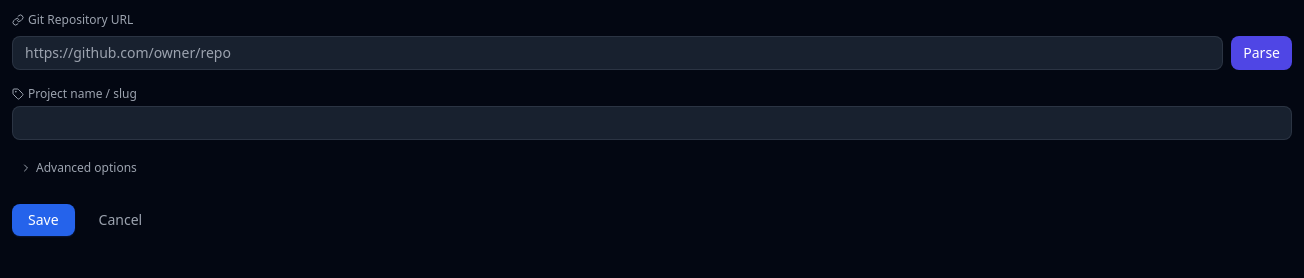
Test: ProjectForm › shows error when Save clicked in create mode without parsing
Click the button "Save" at (43,220), box [12,204,75,236]
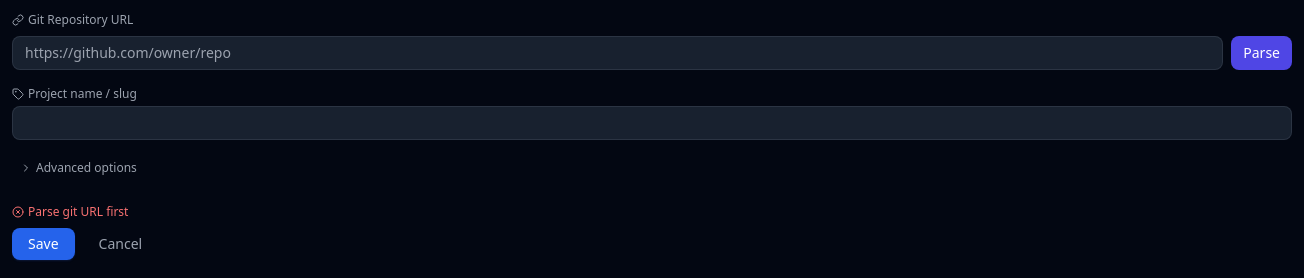
expect the text "Parse git URL first" is shown: met, box [12,203,128,220]
